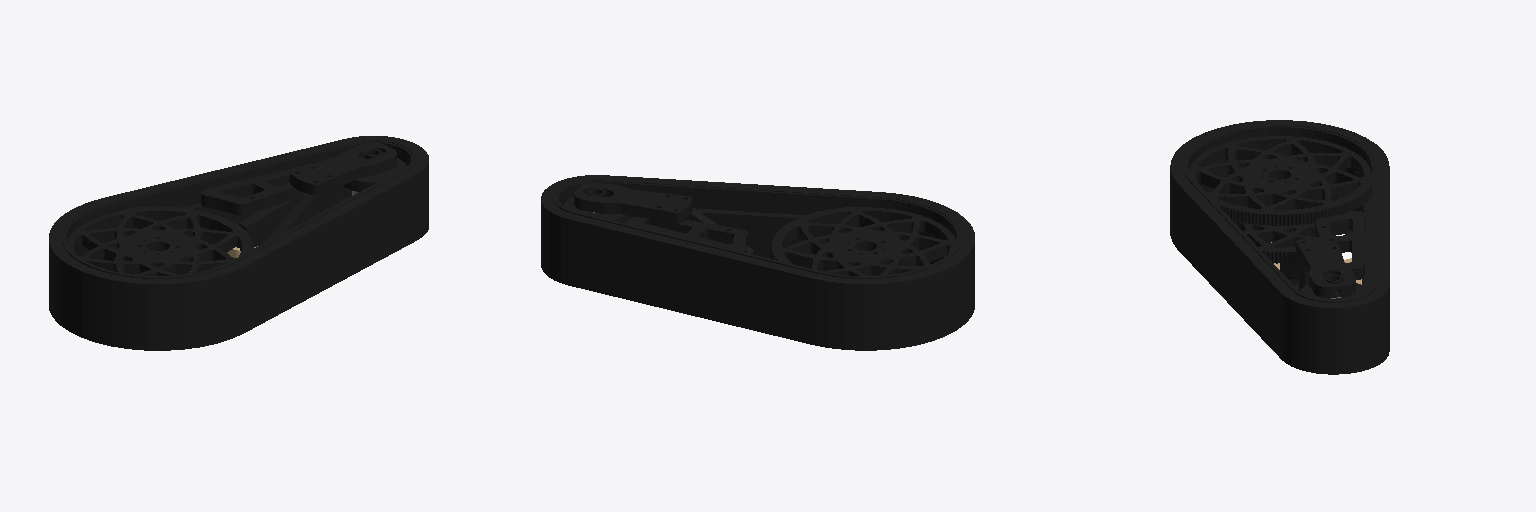
The model's file is JaguarFlipper2.obj.
3 renders of one model, left to right at view 1: azimuth 30°, elevation 25°; view 2: azimuth 150°, elevation 25°; view 3: azimuth 270°, elevation 25°, orthographic.
Parts seen in each view (by area): view 1: default; view 2: default; view 3: default.
Part boxes in pixels (x1,y1,x2,y2): default: (49, 136, 428, 350); default: (541, 175, 974, 350); default: (1170, 120, 1389, 374).
Size of the model in its own units: 4.15 by 0.9983 by 2.05.